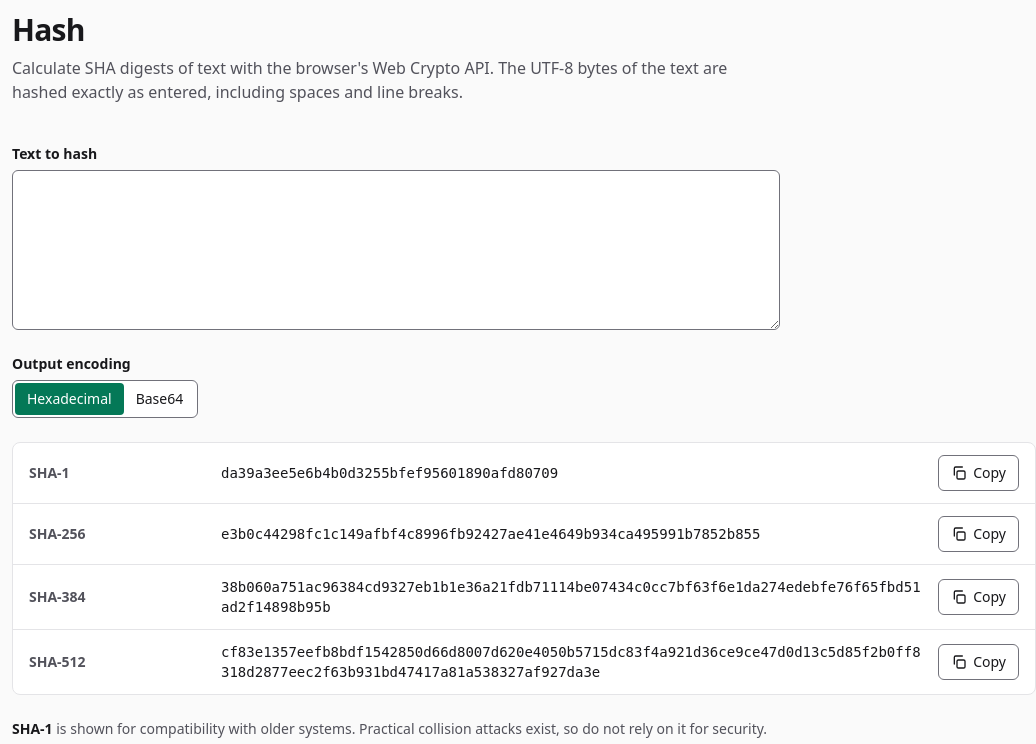
HashTool › shows SHA digests of the input
Type "abc" into the text box labelled "Text to hash".
click(396, 250); type("abc")  # box [12, 170, 780, 330]
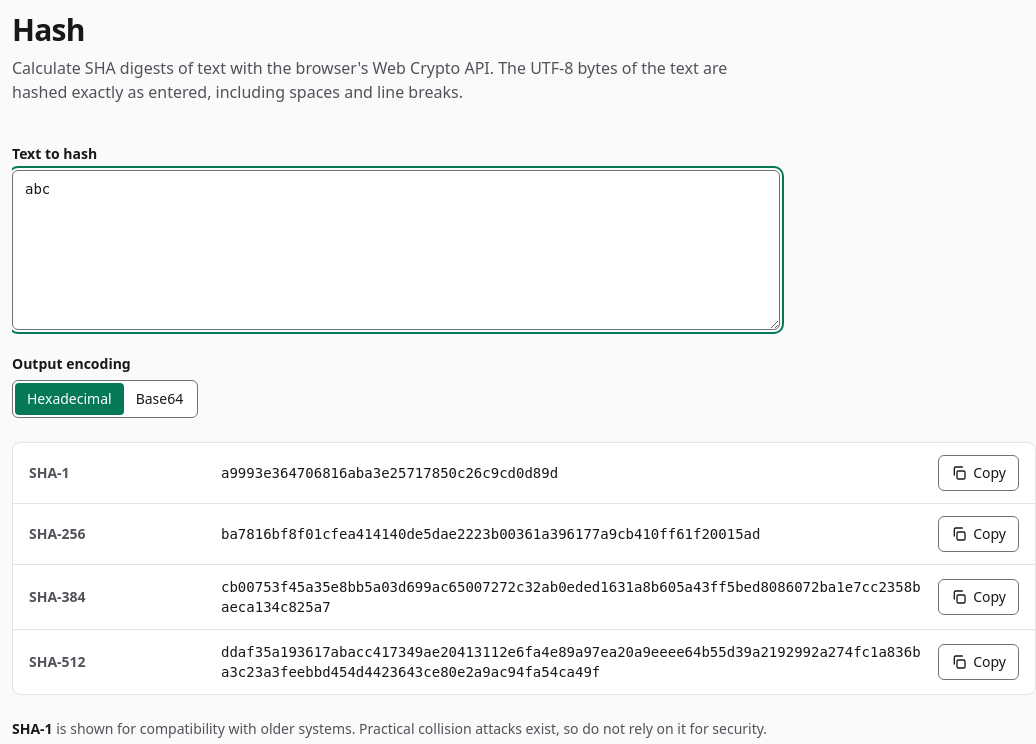
Now the text "ba7816bf8f01cfea414140de5dae2223b00361a396177a9cb410ff61f20015ad" is shown, box [221, 526, 760, 542]
Click the radio button labelled "Base64".
click(160, 398)  # box [136, 389, 183, 408]
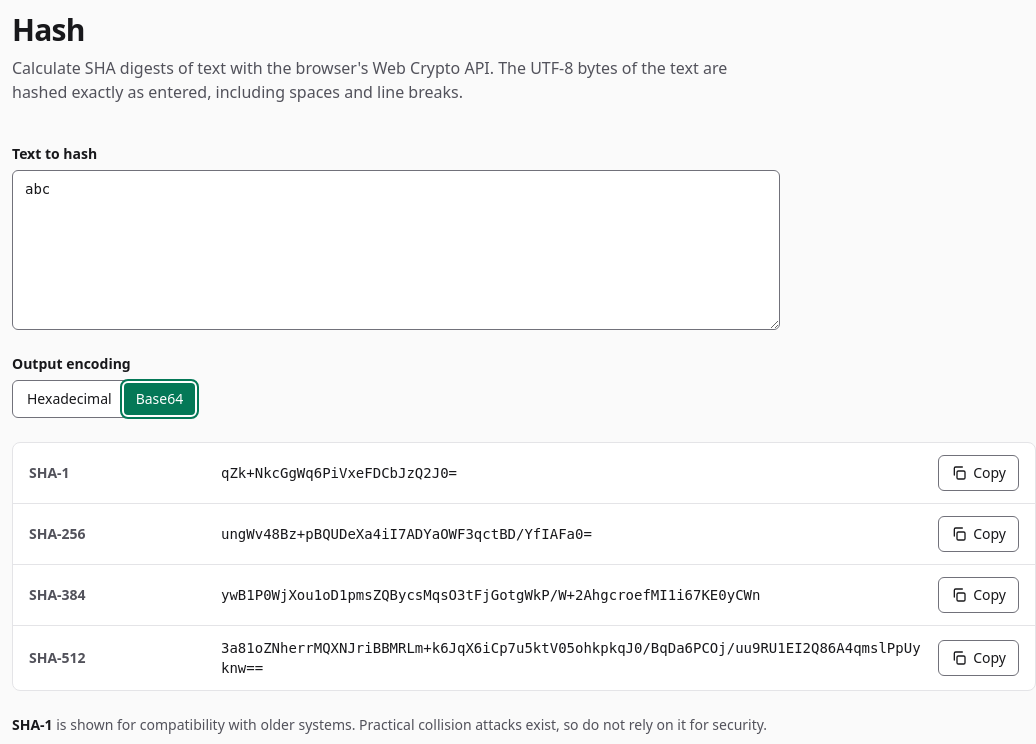
Now the text "ungWv48Bz+pBQUDeXa4iI7ADYaOWF3qctBD/YfIAFa0=" is shown, box [221, 526, 592, 542]
